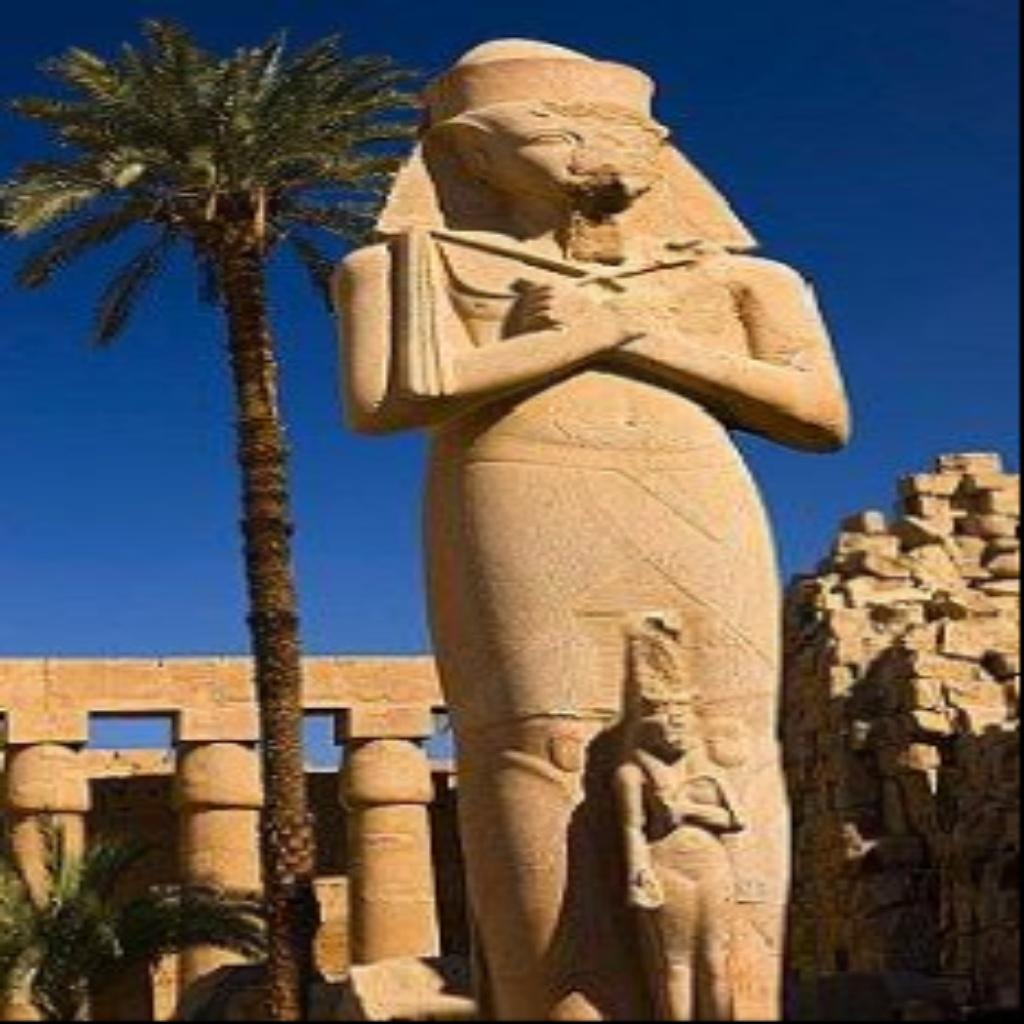Standing Statue of King Ramses II: (325, 32, 857, 1015)
